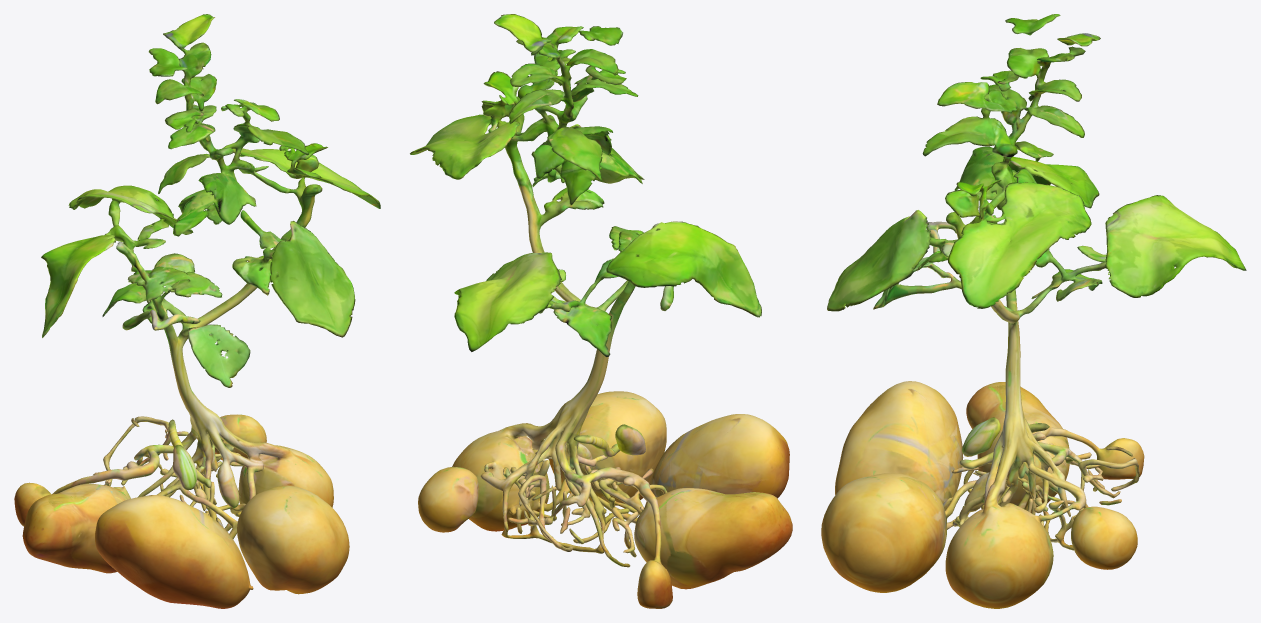
File: herb0083.gltf
3 renders of one model, left to right at view 1: azimuth 30°, elevation 25°; view 2: azimuth 150°, elevation 25°; view 3: azimuth 270°, elevation 25°, orthographic. The views are drawn at different scales.
Visible parts, largest first — view 1: Mesh_0.027; view 2: Mesh_0.027; view 3: Mesh_0.027.
Part boxes in pixels (bbox=[...]): Mesh_0.027: bbox=[14, 14, 380, 608]; Mesh_0.027: bbox=[410, 14, 792, 608]; Mesh_0.027: bbox=[821, 14, 1246, 608].
Bounding box in the file's own units: 1.42 × 2 × 1.4.
Materials: 1 (1 with a texture image).
